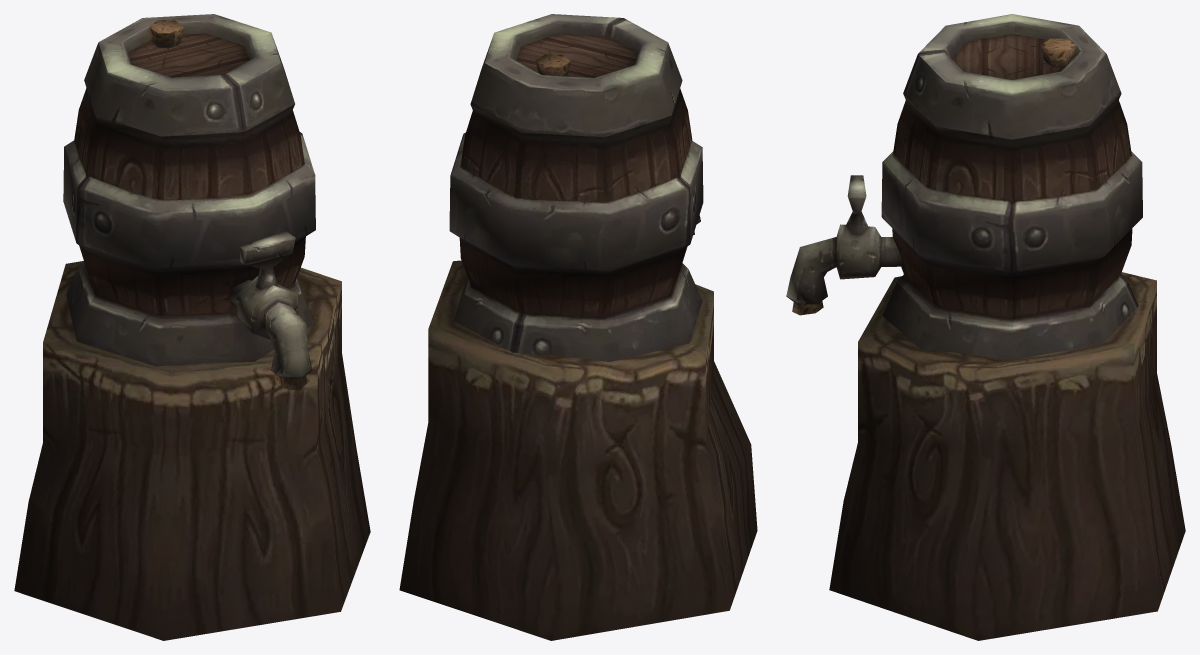
3 views of the same model, side by side, from view 1: azimuth 30°, elevation 25°; view 2: azimuth 150°, elevation 25°; view 3: azimuth 270°, elevation 25° (orthographic).
Size of the model in its own units: 1.83 by 2.76 by 1.94.
2 materials, 2 textured.
